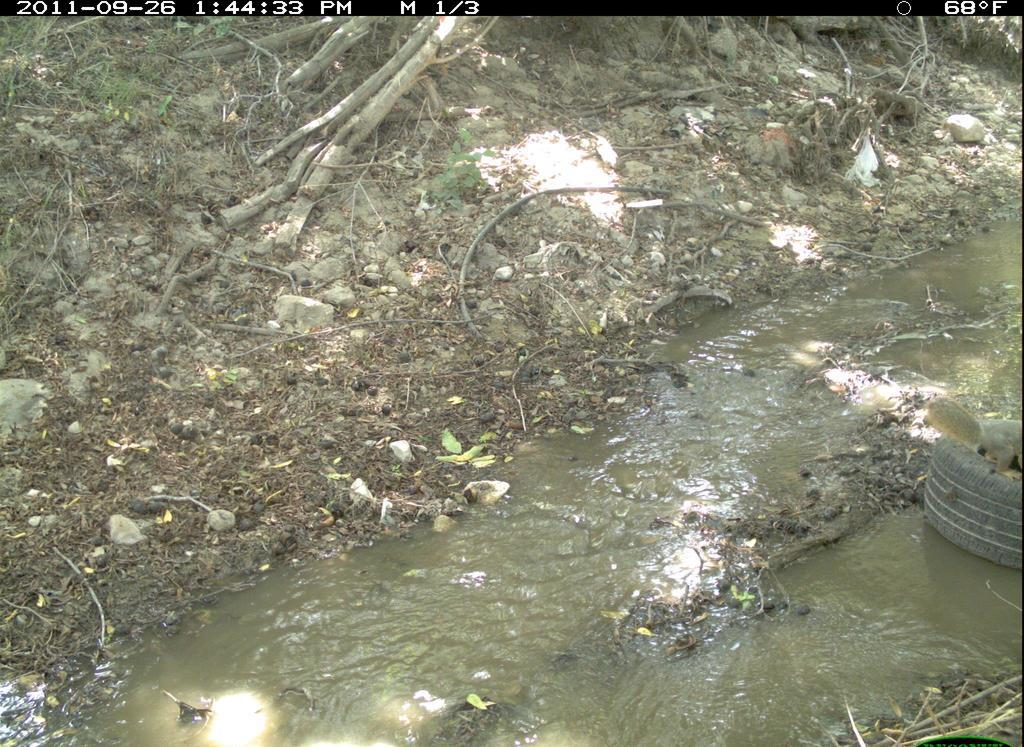squirrel: (919, 390, 1023, 486)
